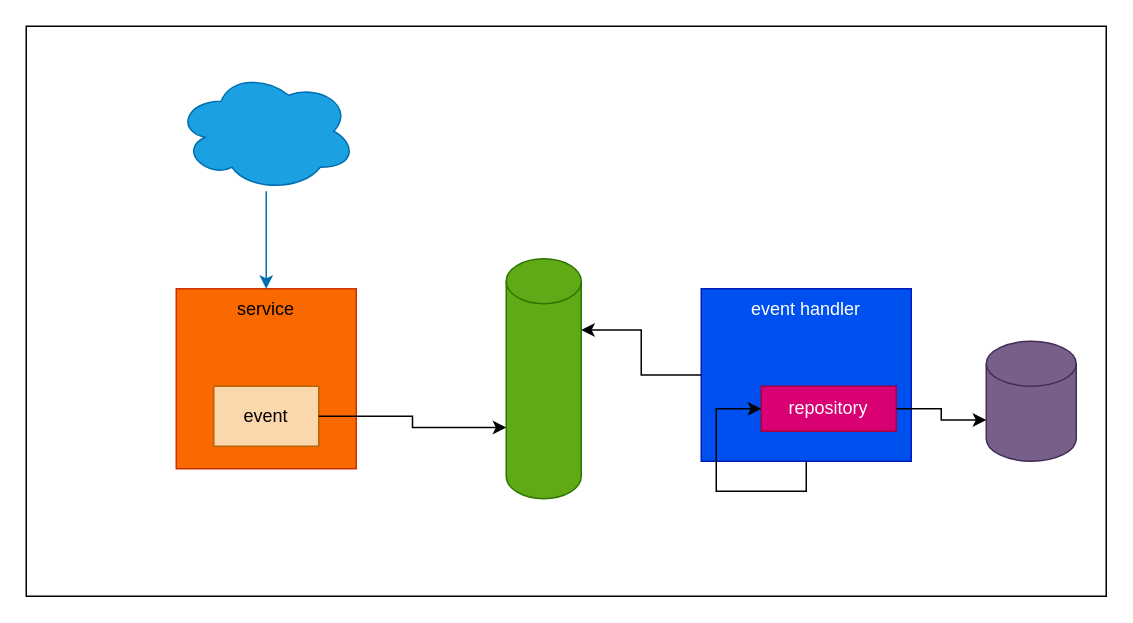
Some shapes in this 1133 by 623 pixel diagram are drawn without their labels. The shapes that lost their labels are listed below. From the top down, each one's centre as x and y in pixels, then its label:
At point 543,378: "kafka".
At point 1030,400: "database".
